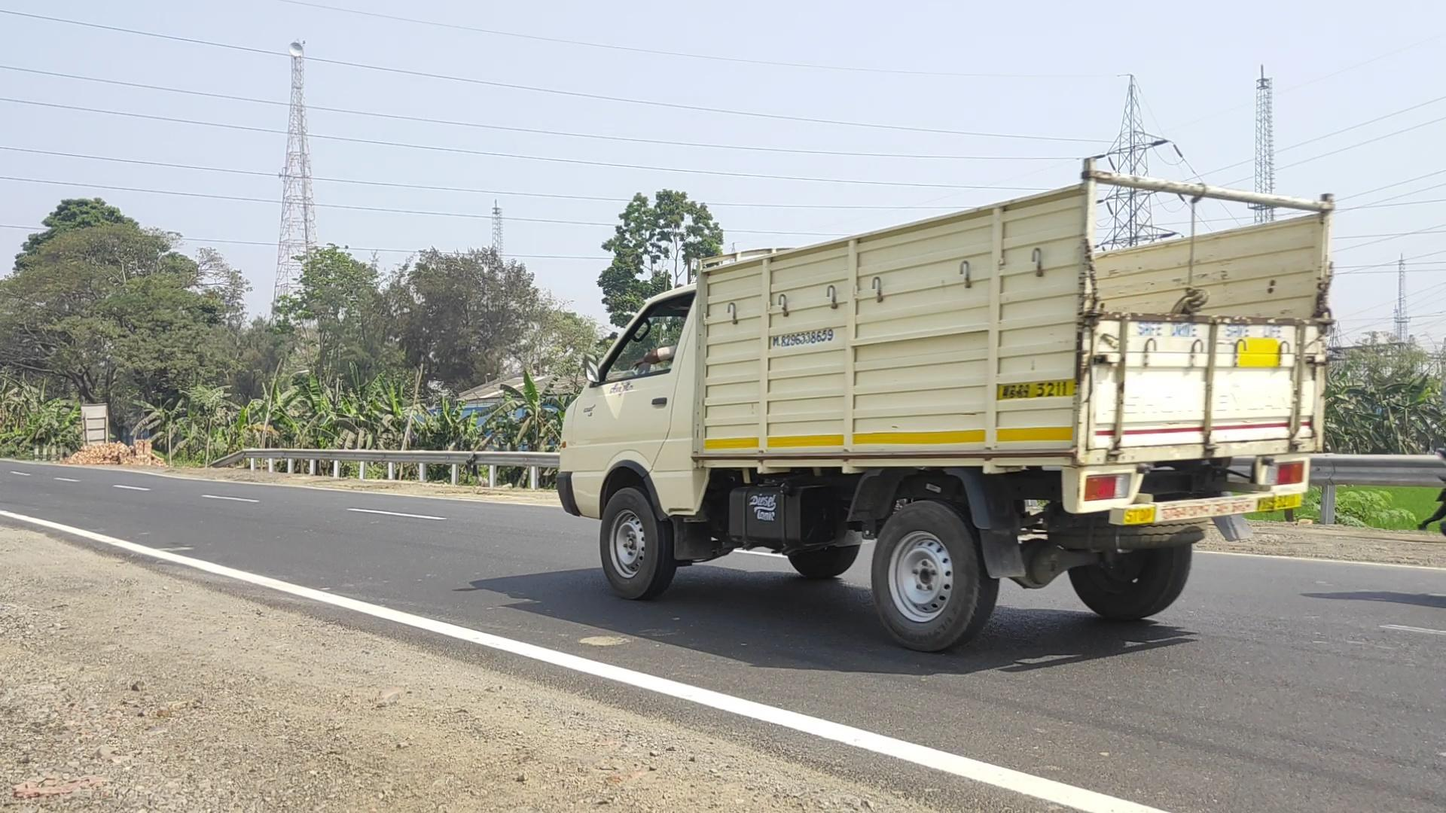van: (555, 157, 1335, 654)
